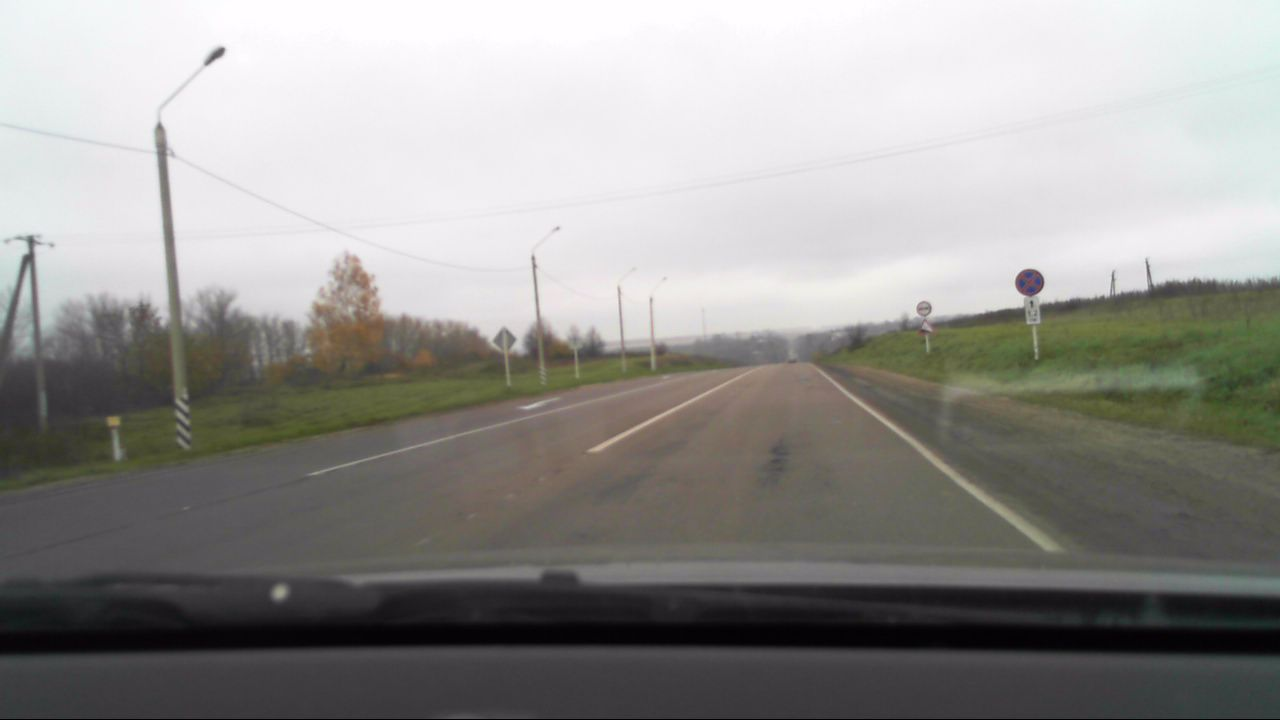No Parking: (1013, 268, 1043, 297)
